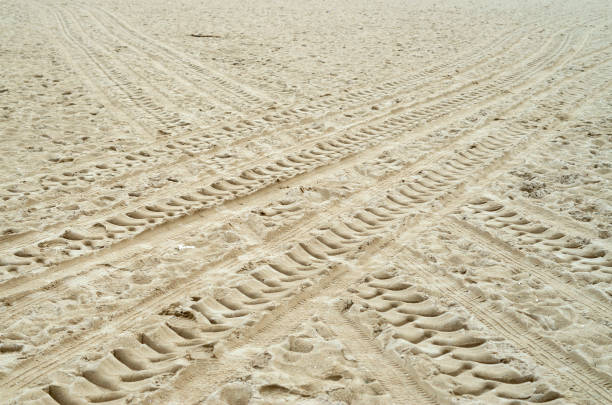vehicle_track: (49, 74, 514, 255), (158, 121, 532, 343), (401, 218, 611, 393), (340, 268, 562, 402), (60, 8, 252, 111), (203, 316, 420, 404), (85, 7, 270, 108), (55, 11, 190, 132), (41, 119, 266, 191), (456, 196, 611, 294), (43, 148, 158, 191), (56, 173, 94, 184), (400, 168, 415, 174)
